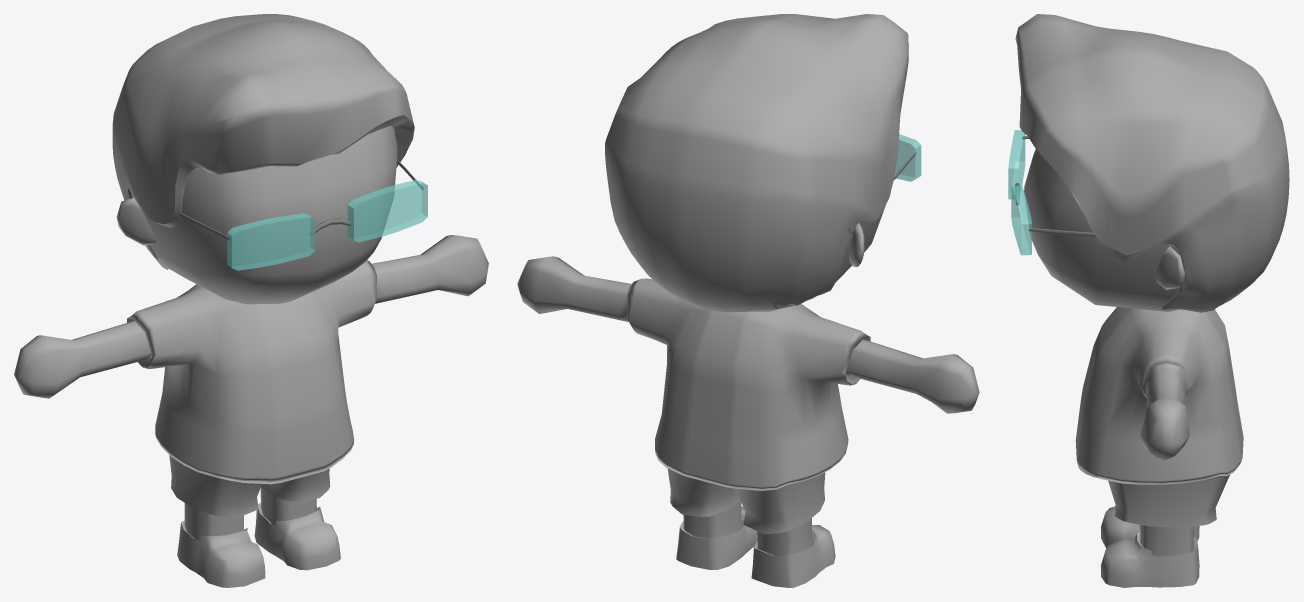
File: Mateus.fbx
The picture shows the model from 3 angles, left to right: view 1: azimuth 30°, elevation 25°; view 2: azimuth 150°, elevation 25°; view 3: azimuth 270°, elevation 25°; orthographic projection. The views are drawn at different scales.
Parts seen in each view (by area): view 1: polySurface6; view 2: polySurface6; view 3: polySurface6.
Boxes of the visible parts, box(x1,y1,x2,y2) form: polySurface6: box(14, 14, 488, 587); polySurface6: box(517, 14, 979, 587); polySurface6: box(1008, 14, 1289, 587).
Bounding box in the file's own units: 69.77 × 76.05 × 37.61.
